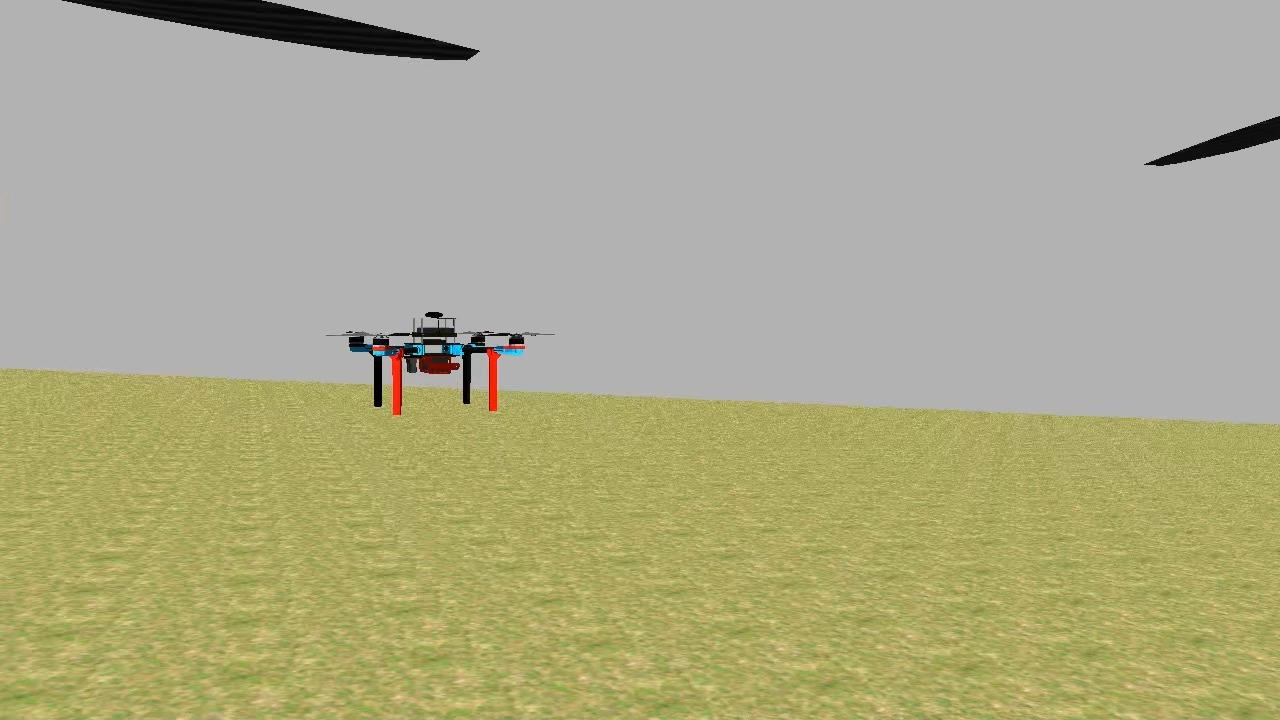UAV: (352, 302, 534, 418)
